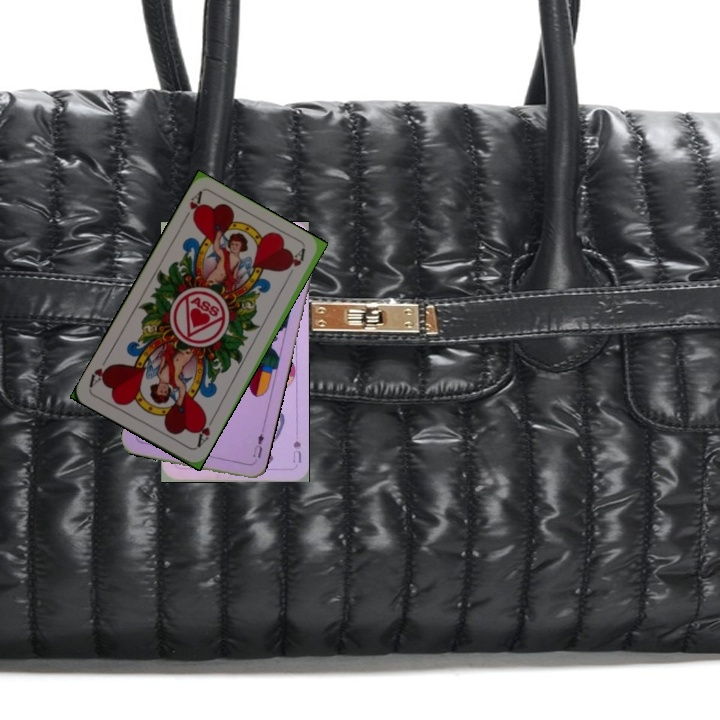EU: (249, 430, 266, 460)
HA: (178, 188, 205, 226), (193, 413, 213, 450)
SU: (289, 437, 304, 465)
